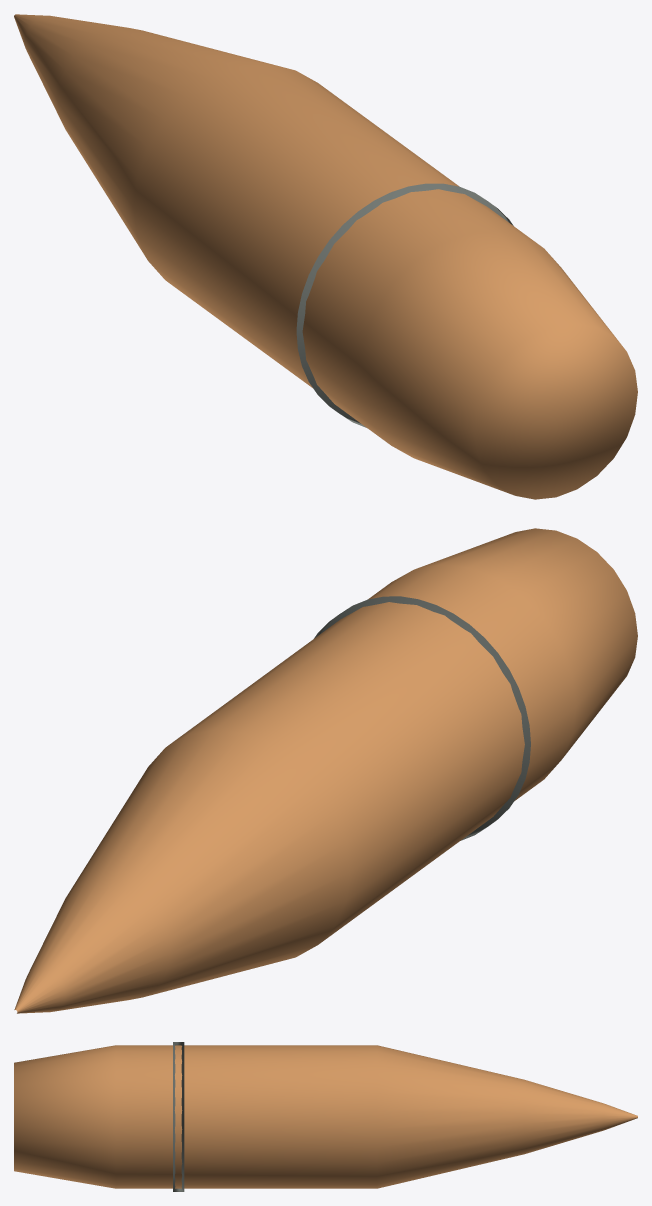
Rendered from machine_gun_bullet.glb.
3 renders of one model, top to bottom at view 1: azimuth 30°, elevation 25°; view 2: azimuth 150°, elevation 25°; view 3: azimuth 270°, elevation 25°, orthographic. The views are drawn at different scales.
Visible parts, largest first — view 1: CopperJacketOgive, CrimpGroove; view 2: CopperJacketOgive, CrimpGroove; view 3: CopperJacketOgive, CrimpGroove.
Boxes of the visible parts, x1=… form: CopperJacketOgive: x1=14, y1=14, x2=637, y2=499; CrimpGroove: x1=296, y1=183, x2=513, y2=427; CopperJacketOgive: x1=14, y1=528, x2=637, y2=1013; CrimpGroove: x1=314, y1=596, x2=530, y2=840; CopperJacketOgive: x1=14, y1=1045, x2=637, y2=1188; CrimpGroove: x1=173, y1=1042, x2=184, y2=1191.
Size of the model in its own units: 0.0132 by 0.0132 by 0.055.
